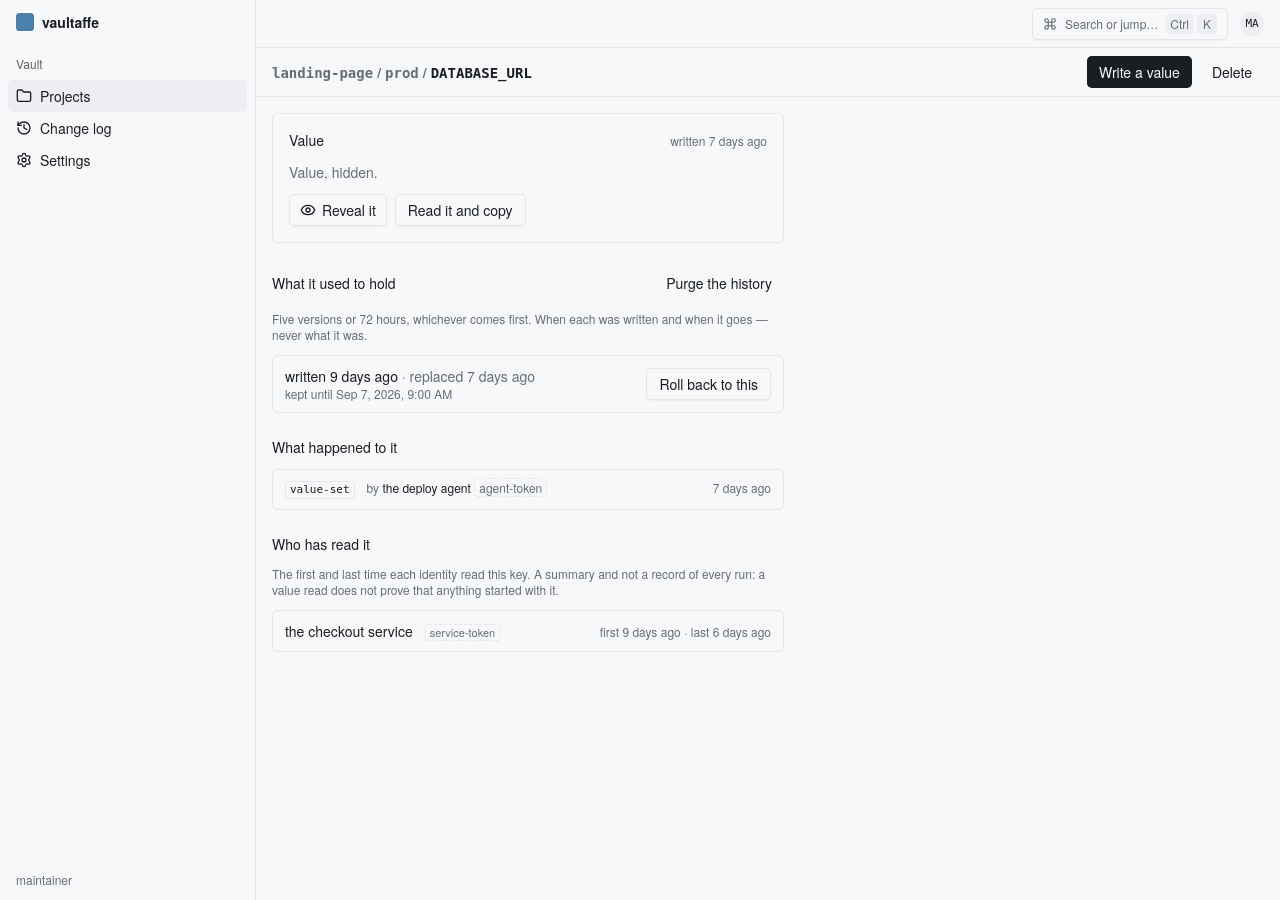
Test: a purge › says both of the two things nobody else says
The width and height of the screenshot is (1280, 900).
Click the button "Purge the history".
click(719, 283)  # box top-left (654, 267), bottom-right (784, 299)
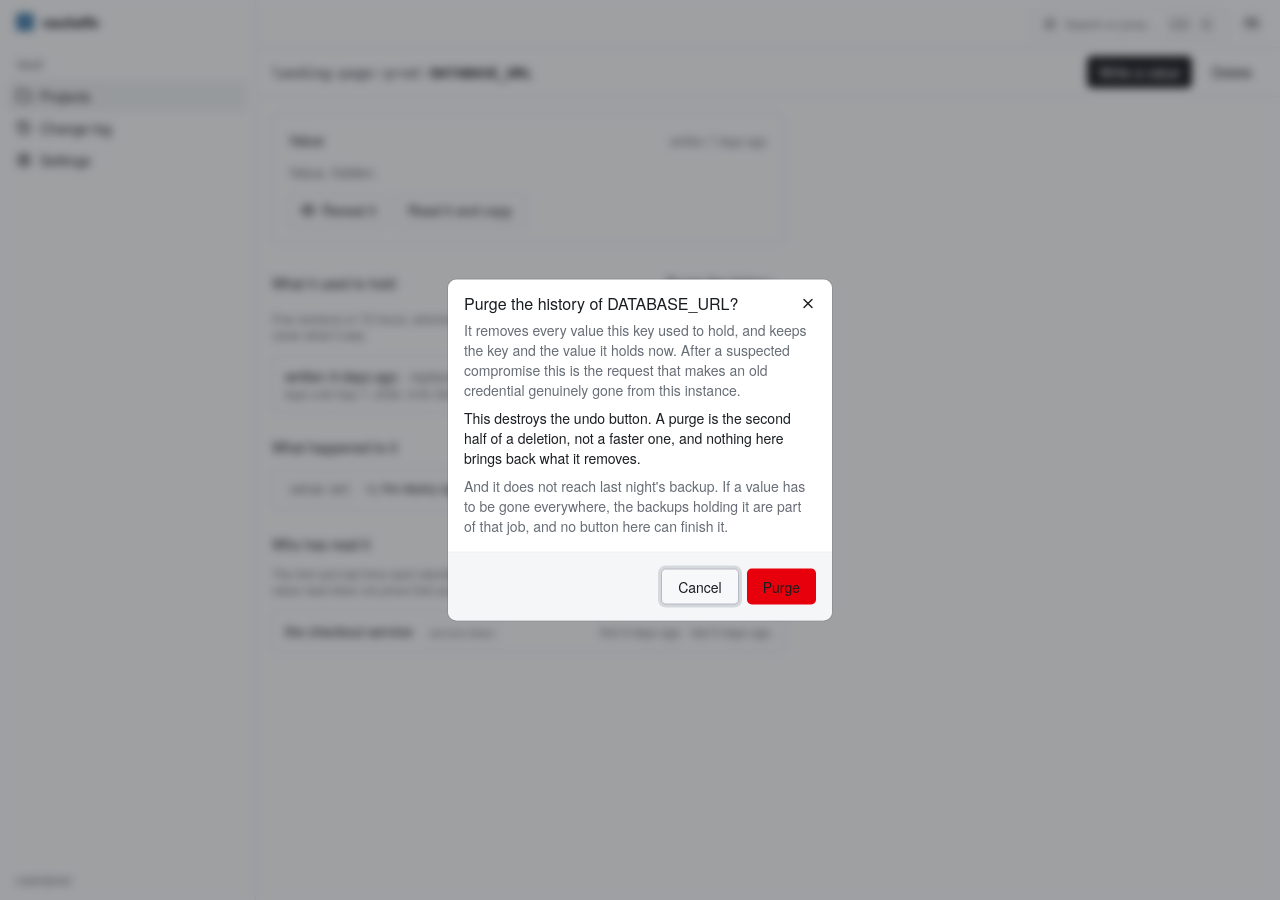
Check: the text "destroys the undo button" is shown, box top-left (464, 408), bottom-right (791, 468)
Check: the text "does not reach last night's backup" is shown, box top-left (464, 476), bottom-right (805, 536)
